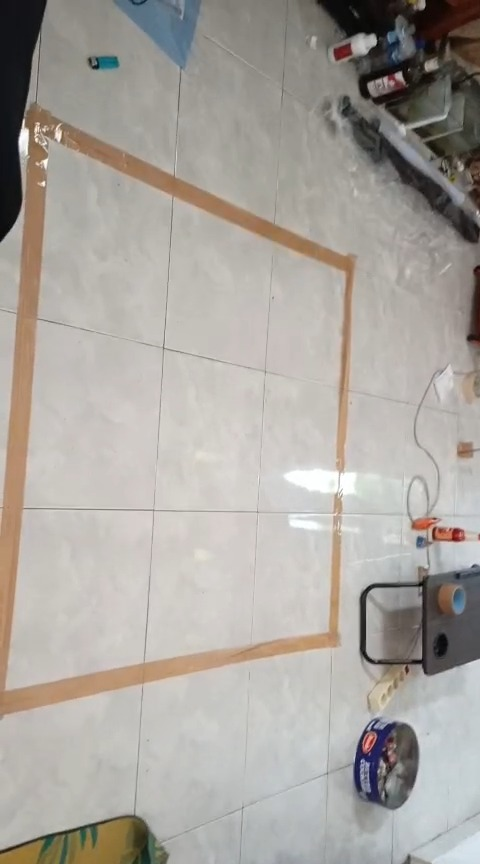floor marking: (0, 104, 354, 713)
